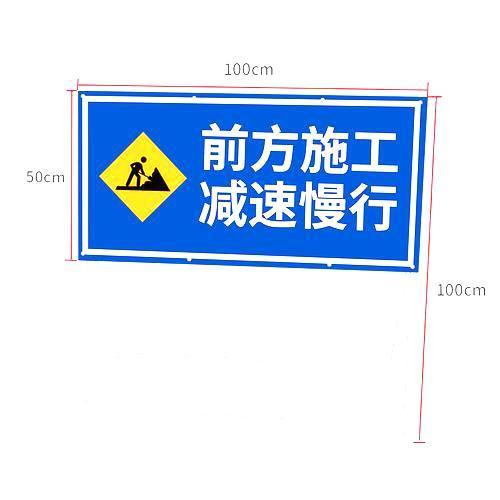sign: (78, 94, 419, 268)
